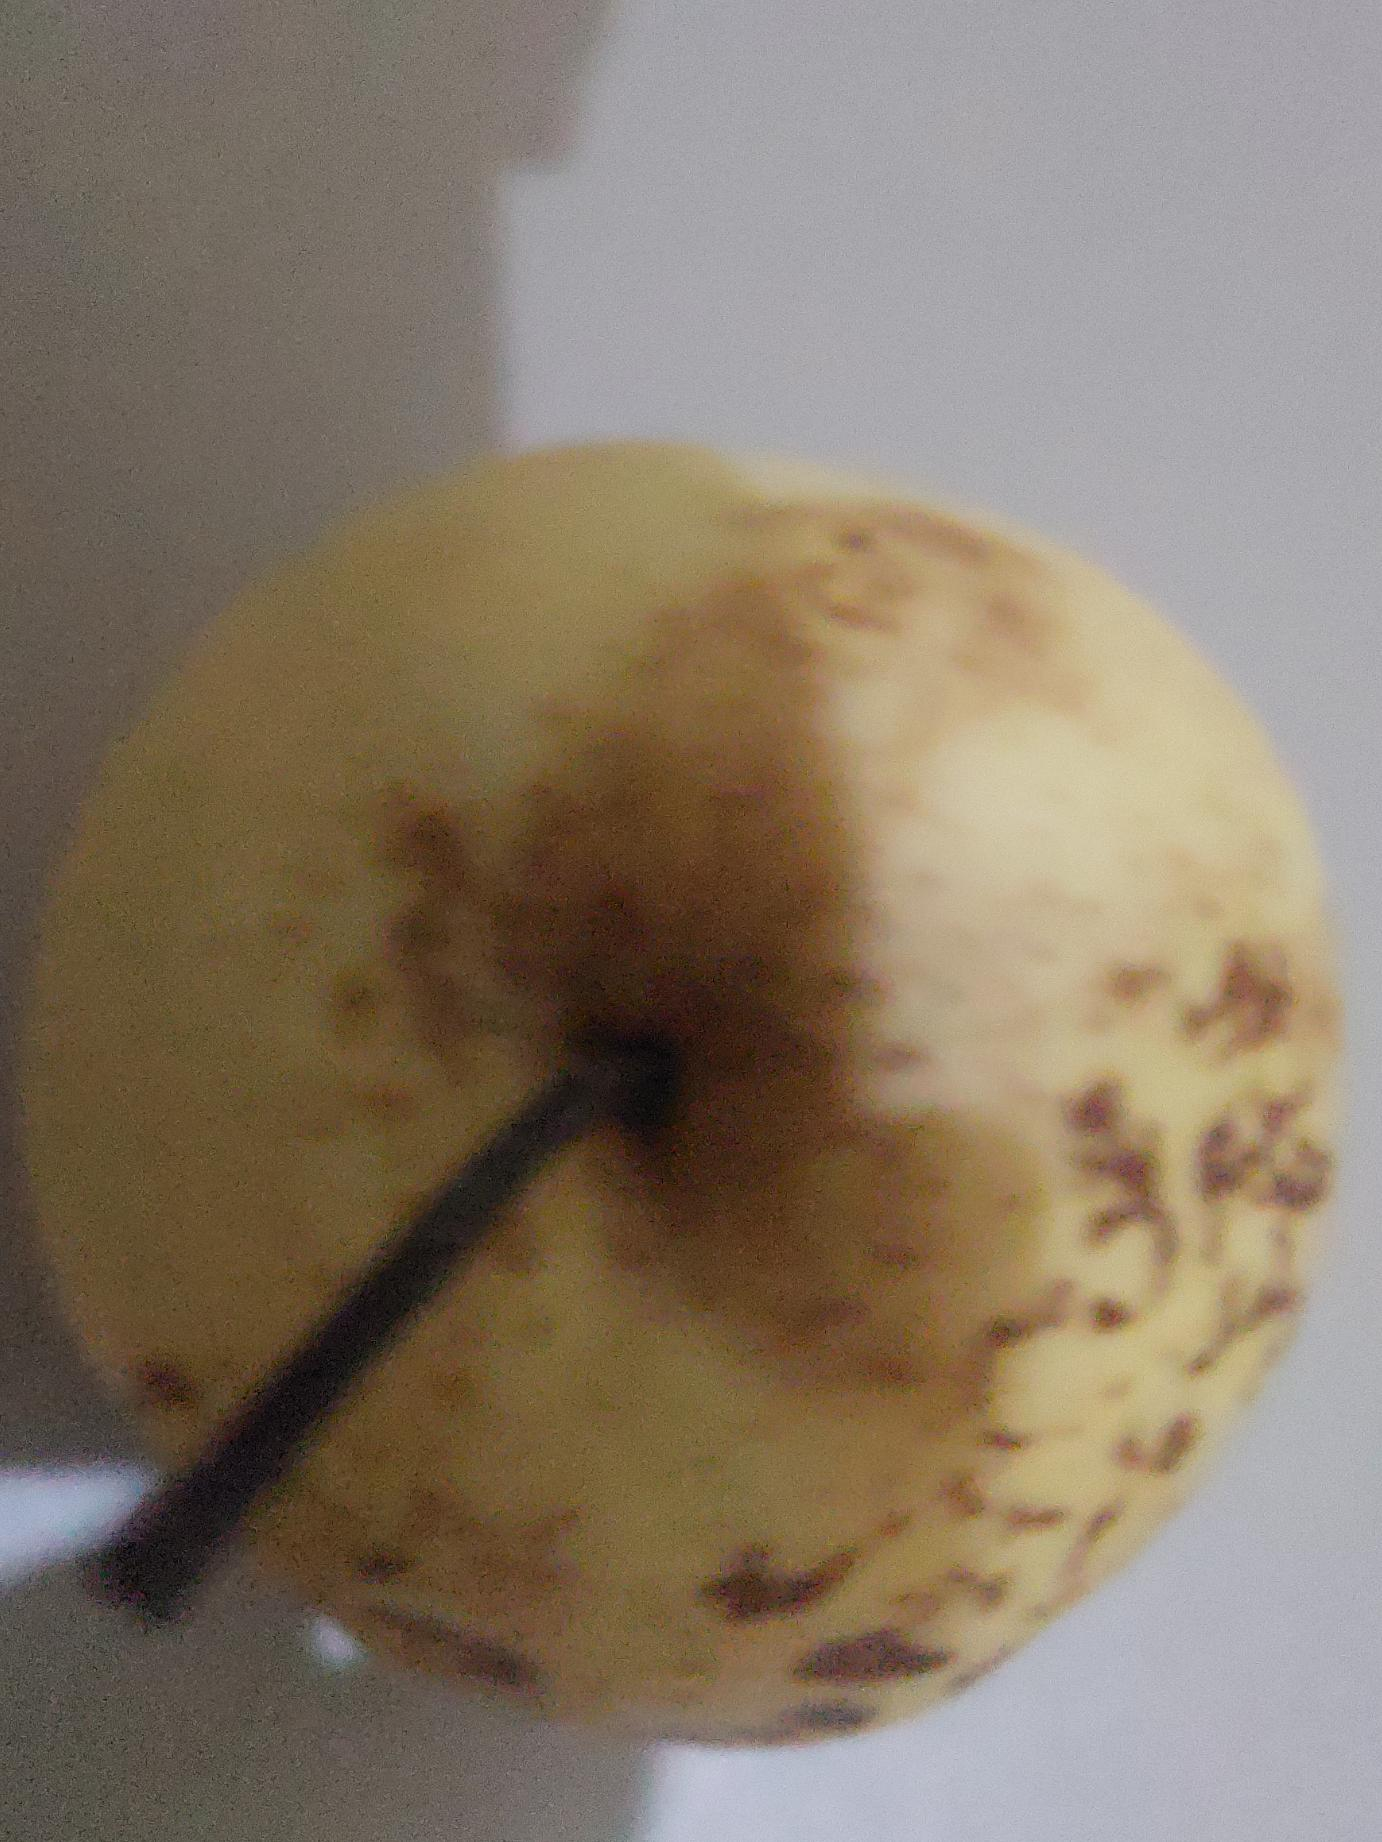Bad Pear: (20, 459, 1299, 1732)
